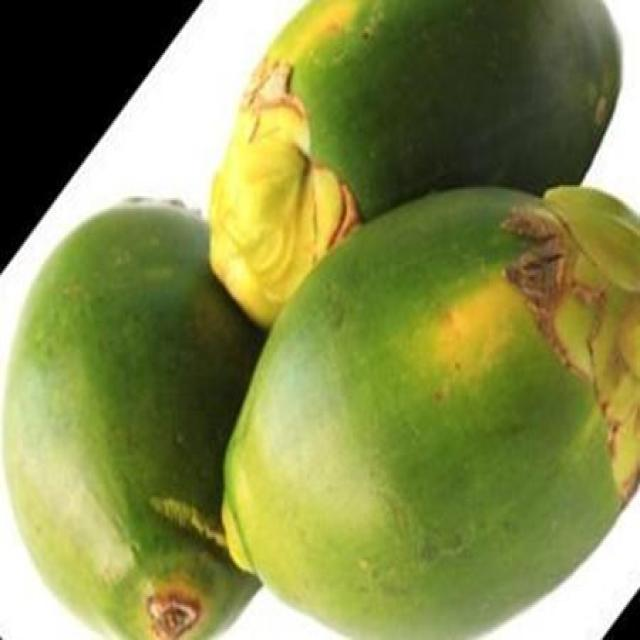good: (219, 187, 639, 638), (212, 0, 623, 315), (0, 198, 267, 638), (398, 75, 422, 90)
